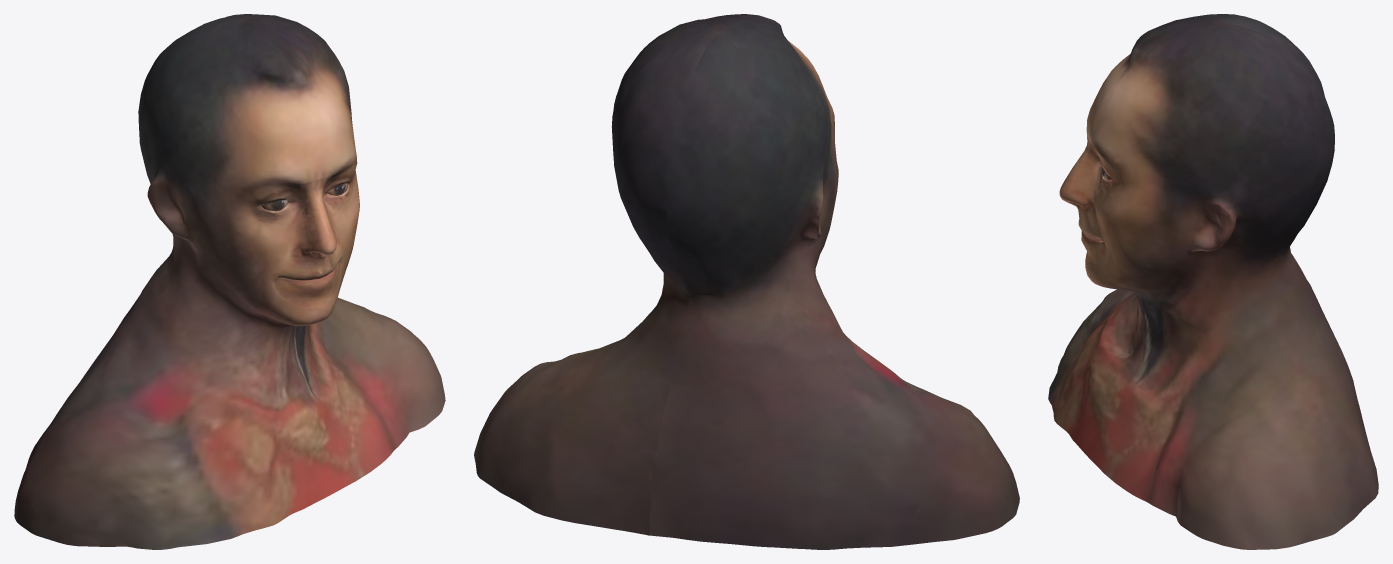
The model's file is simon_bolivar.lod2.glb.
The picture shows the model from 3 angles, left to right: view 1: azimuth 30°, elevation 25°; view 2: azimuth 150°, elevation 25°; view 3: azimuth 270°, elevation 25°; orthographic projection. The views are drawn at different scales.
Visible parts, largest first — view 1: Mesh_10257.rip; view 2: Mesh_10257.rip; view 3: Mesh_10257.rip.
Boxes of the visible parts, x1,y1,x2,y2 form: Mesh_10257.rip: [14, 14, 445, 549]; Mesh_10257.rip: [474, 14, 1019, 549]; Mesh_10257.rip: [1048, 14, 1378, 549].
Size of the model in its own units: 0.00437 by 0.00395 by 0.00276.
Materials: 1 (1 with a texture image).
